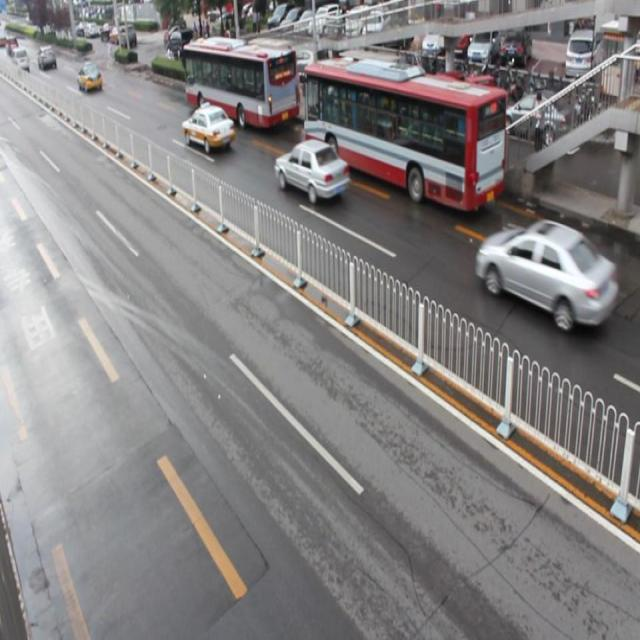car: (475, 216, 612, 330), (274, 136, 347, 204), (181, 101, 233, 152)
van: (304, 56, 504, 210), (184, 34, 297, 128)
